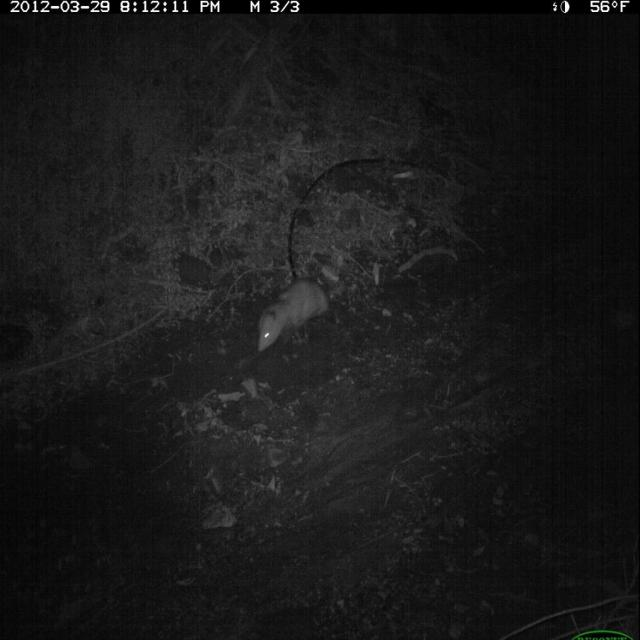opossum: (253, 270, 348, 359)
